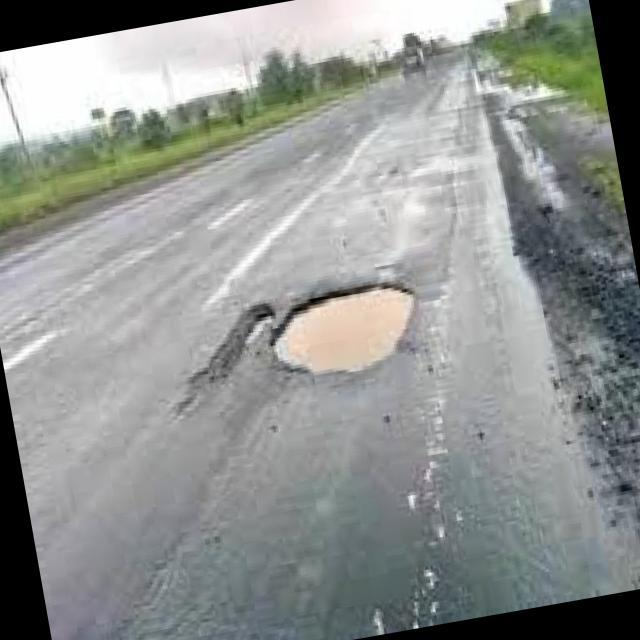Pothole: (194, 283, 418, 382)
